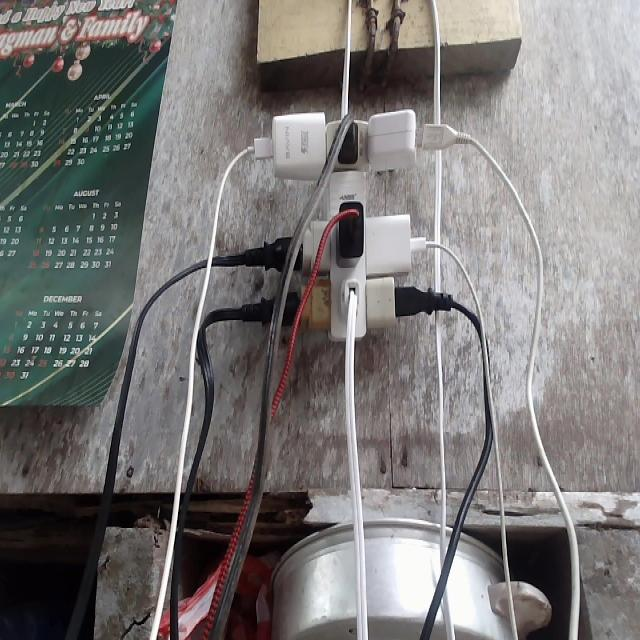-: (236, 107, 459, 340)
